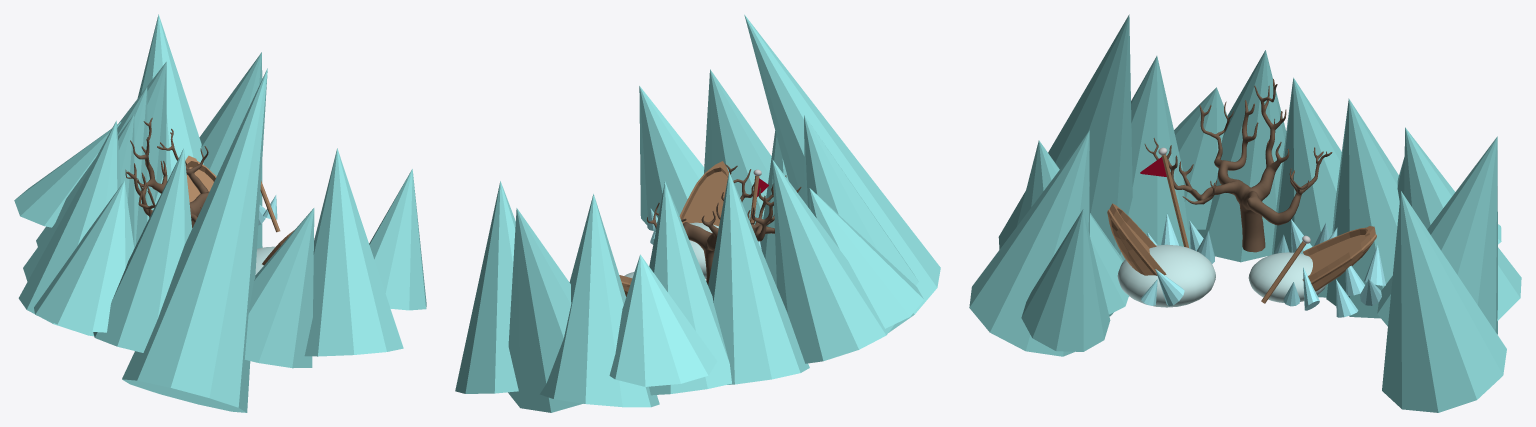
File: IceRuins.fbx
The picture shows the model from 3 angles, left to right: view 1: azimuth 30°, elevation 25°; view 2: azimuth 150°, elevation 25°; view 3: azimuth 270°, elevation 25°; orthographic projection. The views are drawn at different scales.
Parts seen in each view (by area): view 1: polySurface10, polySurface12, polySurface9, polySurface11, polySurface8, polySurface7, polySurface13, polySurface1, polySurface5, polySurface3, polySurface4, polySurface2 (+3 smaller); view 2: polySurface7, polySurface6, polySurface2, polySurface10, polySurface1, polySurface5, polySurface3, polySurface4, polySurface13, polySurface8, polySurface12, polySurface9 (+3 smaller); view 3: polySurface3, polySurface12, polySurface10, polySurface4, polySurface1, polySurface7, polySurface13, polySurface6, polySurface9, Tree, Snow, Boats_Wood (+4 smaller).
Part boxes in pixels (x1,y1,x2,y2): polySurface10: [122, 68, 267, 412]; polySurface12: [304, 148, 403, 356]; polySurface9: [93, 148, 192, 352]; polySurface11: [244, 208, 314, 368]; polySurface8: [34, 181, 134, 332]; polySurface7: [18, 120, 121, 336]; polySurface13: [369, 169, 426, 310]; polySurface1: [137, 14, 203, 221]; polySurface5: [14, 122, 121, 227]; polySurface3: [199, 52, 262, 248]; polySurface4: [36, 87, 147, 247]; polySurface2: [118, 61, 166, 206]; polySurface7: [772, 159, 894, 363]; polySurface6: [708, 172, 809, 384]; polySurface2: [540, 194, 659, 407]; polySurface10: [744, 14, 940, 332]; polySurface1: [508, 208, 582, 412]; polySurface5: [609, 254, 717, 386]; polySurface3: [455, 181, 518, 393]; polySurface4: [649, 181, 731, 395]; polySurface13: [639, 86, 704, 225]; polySurface8: [809, 188, 923, 328]; polySurface12: [704, 69, 771, 224]; polySurface9: [804, 115, 918, 285]; polySurface3: [1382, 191, 1506, 412]; polySurface12: [969, 130, 1089, 356]; polySurface10: [998, 14, 1132, 316]; polySurface4: [1326, 98, 1399, 318]; polySurface1: [1377, 136, 1497, 334]; polySurface7: [1197, 50, 1286, 262]; polySurface13: [1021, 209, 1110, 351]; polySurface6: [1272, 77, 1341, 297]; polySurface9: [1119, 56, 1190, 260]; Tree: [1144, 79, 1332, 252]; Snow: [1117, 244, 1326, 307]; Boats_Wood: [1107, 154, 1376, 303].
Size of the model in its own units: 11.96 by 10.8 by 15.68.
